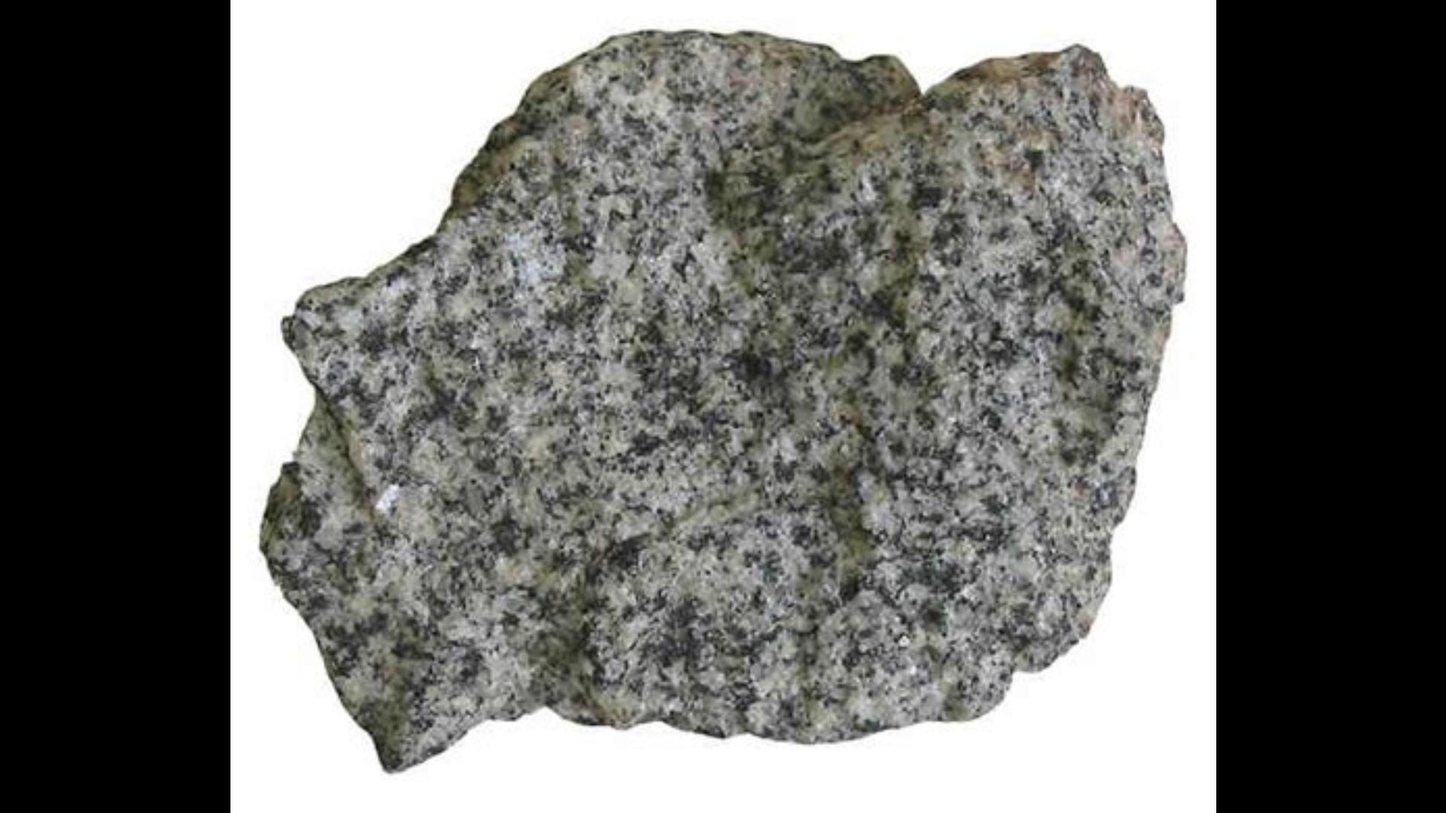rock: (261, 33, 1182, 765)
